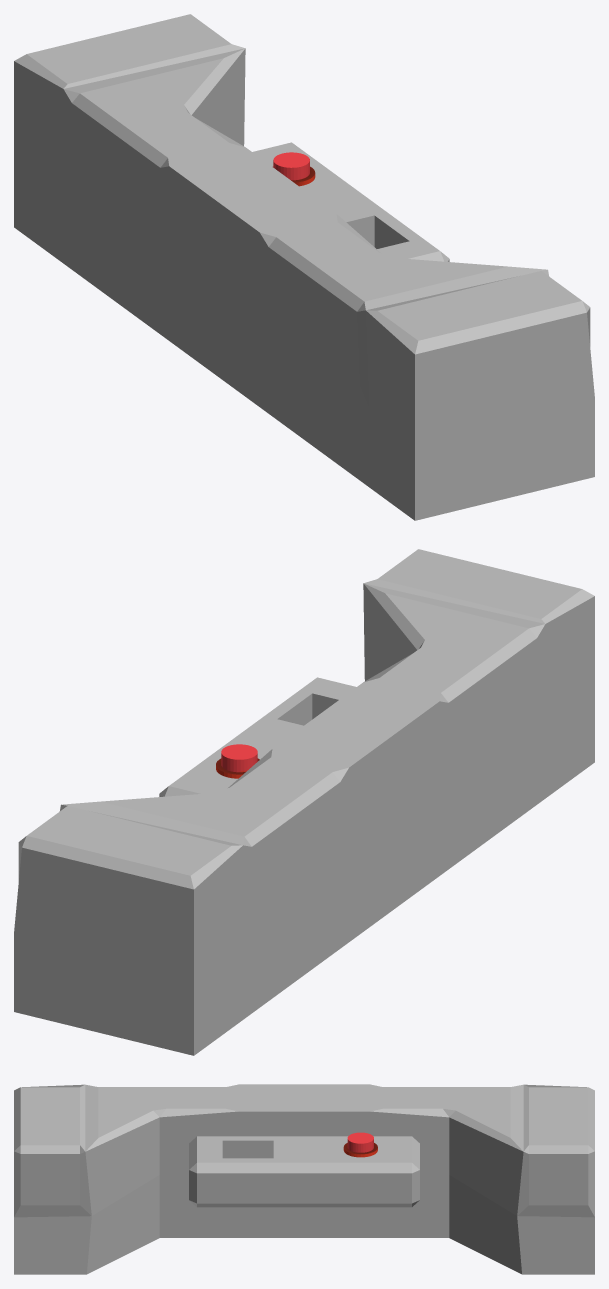
File: ProtoTable.fbx
3 renders of one model, top to bottom at view 1: azimuth 30°, elevation 25°; view 2: azimuth 150°, elevation 25°; view 3: azimuth 270°, elevation 25°, orthographic. The views are drawn at different scales.
Parts seen in each view (by area): view 1: Table, CraftTable, Button; view 2: Table, CraftTable, Button; view 3: Table, CraftTable, Button.
Boxes of the visible parts, x1,y1,x2,y2 form: Table: [14, 14, 594, 520]; CraftTable: [252, 142, 449, 261]; Button: [273, 152, 315, 186]; Table: [14, 549, 594, 1055]; CraftTable: [159, 677, 356, 796]; Button: [216, 744, 259, 778]; Table: [14, 1084, 594, 1274]; CraftTable: [189, 1136, 419, 1207]; Button: [343, 1132, 377, 1157].
Bounding box in the file's own units: 203 × 186 × 772.
